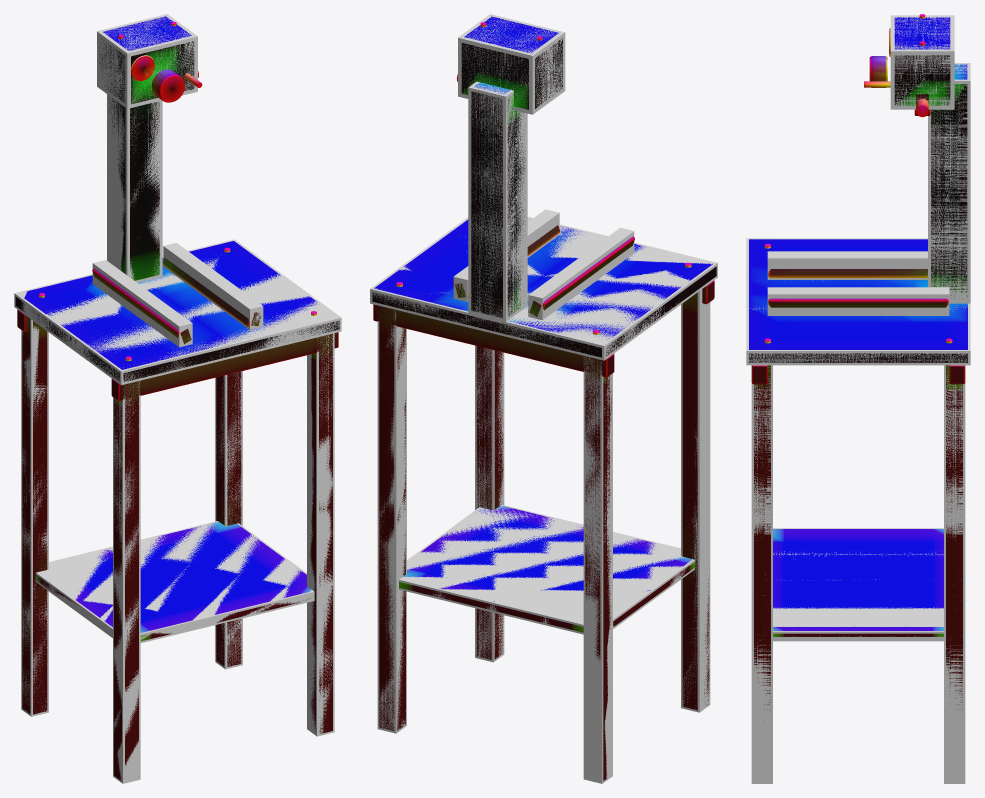
Rendered from prop_cracker.fbx.
3 renders of one model, left to right at view 1: azimuth 30°, elevation 25°; view 2: azimuth 150°, elevation 25°; view 3: azimuth 270°, elevation 25°, orthographic. The views are drawn at different scales.
Parts seen in each view (by area): view 1: prop_cracker, COL_0, COL_1, COL_8, COL_6, COL_2, COL_3, COL_7, COL_9, COL_5, COL_4; view 2: prop_cracker, COL_1, COL_0, COL_7, COL_2, COL_9, COL_6, COL_3, COL_8, COL_4, COL_5; view 3: prop_cracker, COL_2, COL_9, COL_8, COL_1, COL_3, COL_0, COL_5, COL_4.
Boxes of the visible parts, bbox=[...] form: prop_cracker: bbox=[15, 16, 339, 780]; COL_0: bbox=[14, 239, 341, 385]; COL_1: bbox=[35, 521, 314, 642]; COL_8: bbox=[307, 333, 334, 736]; COL_6: bbox=[113, 381, 140, 783]; COL_2: bbox=[107, 94, 162, 282]; COL_3: bbox=[97, 14, 197, 108]; COL_7: bbox=[21, 319, 48, 716]; COL_9: bbox=[215, 371, 242, 669]; COL_5: bbox=[163, 243, 263, 329]; COL_4: bbox=[92, 260, 192, 347]; prop_cracker: bbox=[372, 16, 716, 780]; COL_1: bbox=[399, 504, 694, 634]; COL_0: bbox=[370, 216, 717, 360]; COL_7: bbox=[583, 356, 612, 783]; COL_2: bbox=[468, 81, 527, 321]; COL_9: bbox=[377, 310, 406, 733]; COL_6: bbox=[681, 289, 710, 712]; COL_3: bbox=[458, 14, 565, 114]; COL_8: bbox=[475, 345, 504, 662]; COL_4: bbox=[528, 227, 634, 320]; COL_5: bbox=[453, 209, 559, 301]; prop_cracker: bbox=[749, 14, 967, 720]; COL_2: bbox=[928, 63, 970, 303]; COL_9: bbox=[944, 365, 965, 783]; COL_8: bbox=[751, 365, 772, 783]; COL_1: bbox=[773, 528, 943, 641]; COL_3: bbox=[890, 15, 954, 109]; COL_0: bbox=[746, 238, 970, 365]; COL_5: bbox=[767, 287, 949, 315]; COL_4: bbox=[767, 251, 927, 279].
Bounding box in the file's own units: 0.5 × 1.45 × 0.42.
